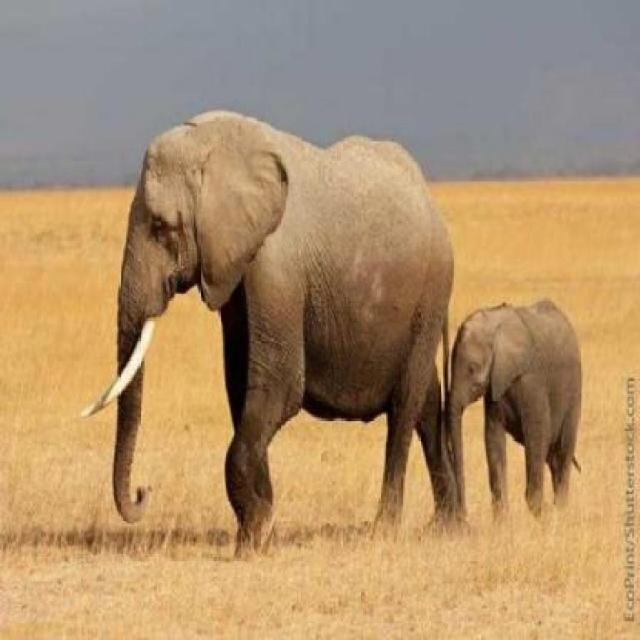Elephant: (83, 109, 460, 565), (439, 299, 584, 532)
